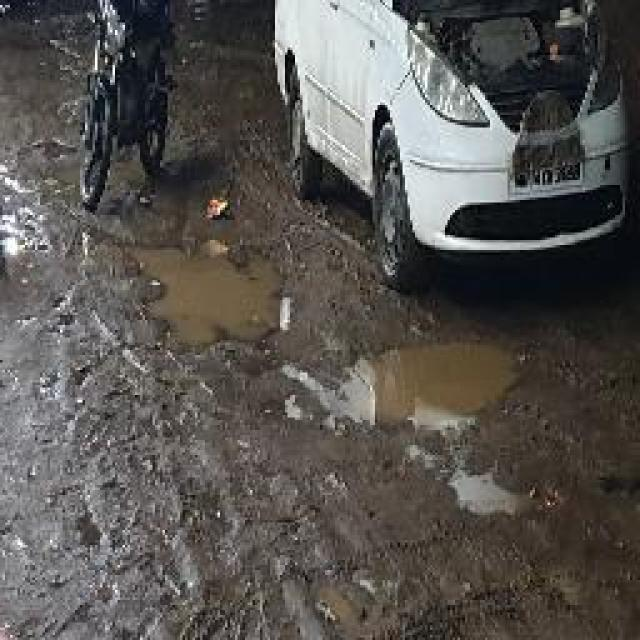waterlogging: (316, 324, 535, 445), (120, 232, 293, 362)
